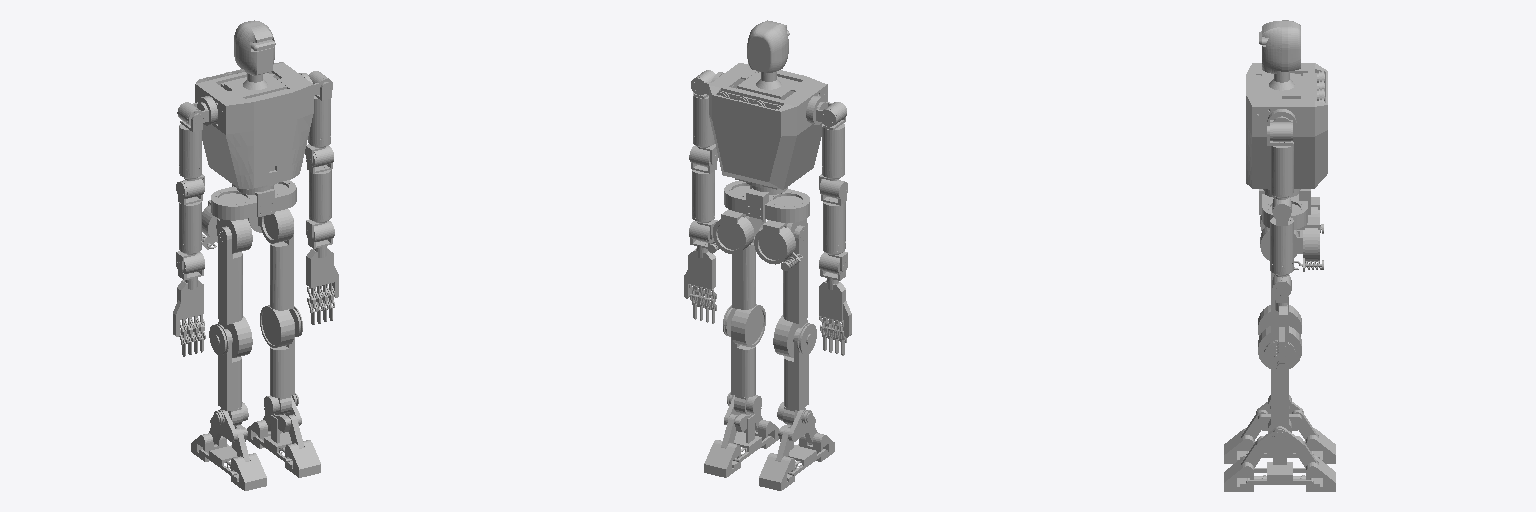
The robot description file, URDF, robot "jqr":
<?xml version="1.0" encoding="utf-8"?>
<!--
  ============================================================================
  jqr 双机械臂人形上半身机器人 URDF 描述
  ============================================================================
  原始模型：SolidWorks 装配体 jqr.SLDASM，通过 SW2URDF Exporter v1.6.0 导出
  ROS2 适配：手动迁移，修正关节限位、添加运动链注释

  运动链结构：
    base_link (大腿/固定基座)
      └── joint_1 [Z旋转, 腰部] ──▶ link_1 (上躯干)
           ├── joint_l_2 [X] ──▶ Link_l_2 (左肩1)
           │    └── joint_l_3 [Y] ──▶ Link_l_3 (左肩2)
           │         └── joint_l_4 [Z] ──▶ Link_l_4 (左肩3)
           │              └── joint_l_5 [X] ──▶ Link_l_5 (左肘1)
           │                   └── joint_l_6 [Z] ──▶ Link_l_6 (左腕1)
           │                        └── joint_l_7 [X] ──▶ Link_l_7 (左手末端)
           └── joint_r_2 [X] ──▶ Link_r_2 (右肩1)
                └── joint_r_3 [Y] ──▶ Link_r_3 (右肩2)
                     └── joint_r_4 [Z] ──▶ Link_r_4 (右肩3)
                          └── joint_r_5 [X] ──▶ Link_r_5 (右肘1)
                               └── joint_r_6 [Z] ──▶ Link_r_6 (右腕1)
                                    └── joint_r_7 [X] ──▶ Link_r_7 (右手末端)

  关节限位：全部 ±π rad (±180°)，力矩 100 N·m，速度 1.0 rad/s

  适用任务：交通指挥手势（停止/直行/左转/右转/减速/靠边停车/变道/待转）

  原 SW 组件对应：
    leg^jqr-1     → base_link  (大腿)
    qugan^jqr-1   → link_1     (躯干)
    l_jian_*      → 左肩关节
    l_zhou_*      → 左肘关节
    zuoshou-1     → 左手
    r_jian_*      → 右肩关节
    r_zhou_*      → 右肘关节
    youshou-1     → 右手
  ============================================================================
-->
<robot
  name="jqr">
  <!-- ============================================================ -->
  <!-- base_link: 大腿 / 固定基座 (对应 SW 组件: leg^jqr-1)          -->
  <!-- 质量: 25.73 kg                                                -->
  <!-- ============================================================ -->
  <link
    name="base_link">
    <inertial>
      <origin
        xyz="-7.28257887112893E-06 0.00313712189482795 -0.510442515287971"
        rpy="0 0 0" />
      <mass
        value="25.7309030479168" />
      <inertia
        ixx="0.131564424573315"
        ixy="9.22312184388478E-06"
        ixz="-1.92259655939609E-07"
        iyy="0.12863710328844"
        iyz="0.000576826622898757"
        izz="0.0431477760395514" />
    </inertial>
    <visual>
      <origin
        xyz="0 0 0"
        rpy="0 0 0" />
      <geometry>
        <mesh
          filename="package://jqr_description/meshes/base_link.STL" />
      </geometry>
      <material
        name="">
        <color
          rgba="0.752941176470588 0.752941176470588 0.752941176470588 1" />
      </material>
    </visual>
    <collision>
      <origin
        xyz="0 0 0"
        rpy="0 0 0" />
      <geometry>
        <mesh
          filename="package://jqr_description/meshes/base_link.STL" />
      </geometry>
    </collision>
  </link>

  <!-- ============================================================ -->
  <!-- link_1: 上躯干 (对应 SW 组件: qugan^jqr-1)                    -->
  <!-- 质量: 18.06 kg                                                -->
  <!-- ============================================================ -->
  <link
    name="link_1">
    <inertial>
      <origin
        xyz="-3.66716048354199E-07 0.01733512366571 0.204933038476789"
        rpy="0 0 0" />
      <mass
        value="18.0550443856409" />
      <inertia
        ixx="0.0703445252773168"
        ixy="5.67686395963026E-07"
        ixz="-1.04936822351132E-06"
        iyy="0.126050912527544"
        iyz="4.33234114295336E-05"
        izz="0.101749713011065" />
    </inertial>
    <visual>
      <origin
        xyz="0 0 0"
        rpy="0 0 0" />
      <geometry>
        <mesh
          filename="package://jqr_description/meshes/link_1.STL" />
      </geometry>
      <material
        name="">
        <color
          rgba="0.752941176470588 0.752941176470588 0.752941176470588 1" />
      </material>
    </visual>
    <collision>
      <origin
        xyz="0 0 0"
        rpy="0 0 0" />
      <geometry>
        <mesh
          filename="package://jqr_description/meshes/link_1.STL" />
      </geometry>
    </collision>
  </link>

  <!-- joint_1: 腰部旋转关节 (大腿 → 上躯干，绕 Z 轴) -->
  <joint
    name="joint_1"
    type="revolute">
    <origin
      xyz="0 0 0"
      rpy="0 0 0" />
    <parent
      link="base_link" />
    <child
      link="link_1" />
    <axis
      xyz="0 0 -1" />
    <limit
      lower="-3.14159"
      upper="3.14159"
      effort="100"
      velocity="1.0" />
  </joint>

  <!-- ============================================================ -->
  <!-- 左臂 Link_l_2: 左肩1 (对应 SW 组件: l_jian_1^jqr-1)         -->
  <!-- ============================================================ -->
  <link
    name="Link_l_2">
    <inertial>
      <origin
        xyz="0.0192116330700638 0.00210607415629638 1.72593120864595E-07"
        rpy="0 0 0" />
      <mass
        value="0.326987226634881" />
      <inertia
        ixx="0.000337004873840184"
        ixy="-2.5379498108827E-05"
        ixz="-7.47610000146244E-08"
        iyy="0.000304711615462641"
        iyz="1.92480172582897E-09"
        izz="0.000391511792737935" />
    </inertial>
    <visual>
      <origin
        xyz="0 0 0"
        rpy="0 0 0" />
      <geometry>
        <mesh
          filename="package://jqr_description/meshes/Link_l_2.STL" />
      </geometry>
      <material
        name="">
        <color
          rgba="0.752941176470588 0.752941176470588 0.752941176470588 1" />
      </material>
    </visual>
    <collision>
      <origin
        xyz="0 0 0"
        rpy="0 0 0" />
      <geometry>
        <mesh
          filename="package://jqr_description/meshes/Link_l_2.STL" />
      </geometry>
    </collision>
  </link>

  <!-- joint_l_2: 左肩滚动 (上躯干 → 左肩1，绕 X 轴) -->
  <joint
    name="joint_l_2"
    type="revolute">
    <origin
      xyz="0.18 0 0.2957"
      rpy="0 0 0" />
    <parent
      link="link_1" />
    <child
      link="Link_l_2" />
    <axis
      xyz="-1 0 0" />
    <limit
      lower="-3.14159"
      upper="3.14159"
      effort="100"
      velocity="1.0" />
  </joint>

  <!-- Link_l_3: 左肩2 (对应 SW 组件: l_jian_2^jqr-1) -->
  <link
    name="Link_l_3">
    <inertial>
      <origin
        xyz="5.79342129825022E-13 0.0188909489631652 -0.0114828840417226"
        rpy="0 0 0" />
      <mass
        value="0.298520124158937" />
      <inertia
        ixx="0.000193885158977959"
        ixy="-1.99513392221959E-15"
        ixz="1.16639876114517E-15"
        iyy="0.000128830758080107"
        iyz="3.80320921264696E-05"
        izz="0.000162377820693639" />
    </inertial>
    <visual>
      <origin
        xyz="0 0 0"
        rpy="0 0 0" />
      <geometry>
        <mesh
          filename="package://jqr_description/meshes/Link_l_3.STL" />
      </geometry>
      <material
        name="">
        <color
          rgba="0.752941176470588 0.752941176470588 0.752941176470588 1" />
      </material>
    </visual>
    <collision>
      <origin
        xyz="0 0 0"
        rpy="0 0 0" />
      <geometry>
        <mesh
          filename="package://jqr_description/meshes/Link_l_3.STL" />
      </geometry>
    </collision>
  </link>

  <!-- joint_l_3: 左肩俯仰 (左肩1 → 左肩2，绕 Y 轴) -->
  <joint
    name="joint_l_3"
    type="revolute">
    <origin
      xyz="0.053909 -0.028 0"
      rpy="0 0 0" />
    <parent
      link="Link_l_2" />
    <child
      link="Link_l_3" />
    <axis
      xyz="0 1 0" />
    <limit
      lower="-3.14159"
      upper="3.14159"
      effort="100"
      velocity="1.0" />
  </joint>

  <!-- Link_l_4: 左肩3 (对应 SW 组件: l_jian_3^jqr-1) -->
  <link
    name="Link_l_4">
    <inertial>
      <origin
        xyz="-0.00346032389871015 1.65136695429169E-08 -0.108516866875203"
        rpy="0 0 0" />
      <mass
        value="0.671082140232489" />
      <inertia
        ixx="0.00084543734485534"
        ixy="3.13098312956249E-10"
        ixz="-1.49774637729417E-05"
        iyy="0.000856715139405768"
        iyz="1.29726209040003E-10"
        izz="0.000474774451848715" />
    </inertial>
    <visual>
      <origin
        xyz="0 0 0"
        rpy="0 0 0" />
      <geometry>
        <mesh
          filename="package://jqr_description/meshes/Link_l_4.STL" />
      </geometry>
      <material
        name="">
        <color
          rgba="0.752941176470588 0.752941176470588 0.752941176470588 1" />
      </material>
    </visual>
    <collision>
      <origin
        xyz="0 0 0"
        rpy="0 0 0" />
      <geometry>
        <mesh
          filename="package://jqr_description/meshes/Link_l_4.STL" />
      </geometry>
    </collision>
  </link>

  <!-- joint_l_4: 左肩偏航 (左肩2 → 左肩3，绕 Z 轴) -->
  <joint
    name="joint_l_4"
    type="revolute">
    <origin
      xyz="0 0.0285 -0.038"
      rpy="0 0 0" />
    <parent
      link="Link_l_3" />
    <child
      link="Link_l_4" />
    <axis
      xyz="0 0 -1" />
    <limit
      lower="-3.14159"
      upper="3.14159"
      effort="100"
      velocity="1.0" />
  </joint>

  <!-- Link_l_5: 左肘1 (对应 SW 组件: l_zhou_1^jqr-2) -->
  <link
    name="Link_l_5">
    <inertial>
      <origin
        xyz="0.0298252395509881 2.69584074619189E-07 -0.0111377145766401"
        rpy="0 0 0" />
      <mass
        value="0.326042834726433" />
      <inertia
        ixx="0.000196478803920671"
        ixy="3.15590879514583E-09"
        ixz="-1.5664356935537E-05"
        iyy="0.000291950260895777"
        iyz="-9.50914655149448E-08"
        izz="0.00022447445297539" />
    </inertial>
    <visual>
      <origin
        xyz="0 0 0"
        rpy="0 0 0" />
      <geometry>
        <mesh
          filename="package://jqr_description/meshes/Link_l_5.STL" />
      </geometry>
      <material
        name="">
        <color
          rgba="0.752941176470588 0.752941176470588 0.752941176470588 1" />
      </material>
    </visual>
    <collision>
      <origin
        xyz="0 0 0"
        rpy="0 0 0" />
      <geometry>
        <mesh
          filename="package://jqr_description/meshes/Link_l_5.STL" />
      </geometry>
    </collision>
  </link>

  <!-- joint_l_5: 左肘滚动 (左肩3 → 左肘1，绕 X 轴) -->
  <joint
    name="joint_l_5"
    type="revolute">
    <origin
      xyz="-0.026 0 -0.217"
      rpy="0 0 0" />
    <parent
      link="Link_l_4" />
    <child
      link="Link_l_5" />
    <axis
      xyz="-1 0 0" />
    <limit
      lower="-3.14159"
      upper="3.14159"
      effort="100"
      velocity="1.0" />
  </joint>

  <!-- Link_l_6: 左腕1 (对应 SW 组件: l_zhou_2^jqr-1) -->
  <link
    name="Link_l_6">
    <inertial>
      <origin
        xyz="1.70324152282131E-08 -2.26173746398217E-09 -0.086106964412177"
        rpy="0 0 0" />
      <mass
        value="0.578023782698956" />
      <inertia
        ixx="0.000800669559113827"
        ixy="-1.53348176821043E-10"
        ixz="1.22640139468745E-10"
        iyy="0.000800670815790048"
        iyz="-1.74146203074858E-11"
        izz="0.000441194903910431" />
    </inertial>
    <visual>
      <origin
        xyz="0 0 0"
        rpy="0 0 0" />
      <geometry>
        <mesh
          filename="package://jqr_description/meshes/Link_l_6.STL" />
      </geometry>
      <material
        name="">
        <color
          rgba="0.752941176470588 0.752941176470588 0.752941176470588 1" />
      </material>
    </visual>
    <collision>
      <origin
        xyz="0 0 0"
        rpy="0 0 0" />
      <geometry>
        <mesh
          filename="package://jqr_description/meshes/Link_l_6.STL" />
      </geometry>
    </collision>
  </link>

  <!-- joint_l_6: 左腕偏航 (左肘1 → 左腕1，绕 Z 轴) -->
  <joint
    name="joint_l_6"
    type="revolute">
    <origin
      xyz="0.028 0 -0.051909"
      rpy="0 0 0" />
    <parent
      link="Link_l_5" />
    <child
      link="Link_l_6" />
    <axis
      xyz="0 0 -1" />
    <limit
      lower="-3.14159"
      upper="3.14159"
      effort="100"
      velocity="1.0" />
  </joint>

  <!-- Link_l_7: 左手末端 (对应 SW 组件: zuoshou-1) -->
  <link
    name="Link_l_7">
    <inertial>
      <origin
        xyz="0.0338197212259842 -0.00038985244370715 -0.0594631753688534"
        rpy="0 0 0" />
      <mass
        value="0.692165788318104" />
      <inertia
        ixx="0.000718868972184597"
        ixy="6.07415436106744E-07"
        ixz="7.05799369015941E-05"
        iyy="0.000980193989059306"
        iyz="-4.30720905831231E-06"
        izz="0.000451178675645269" />
    </inertial>
    <visual>
      <origin
        xyz="0 0 0"
        rpy="0 0 0" />
      <geometry>
        <mesh
          filename="package://jqr_description/meshes/Link_l_7.STL" />
      </geometry>
      <material
        name="">
        <color
          rgba="0.752941176470588 0.752941176470588 0.752941176470588 1" />
      </material>
    </visual>
    <collision>
      <origin
        xyz="0 0 0"
        rpy="0 0 0" />
      <geometry>
        <mesh
          filename="package://jqr_description/meshes/Link_l_7.STL" />
      </geometry>
    </collision>
  </link>

  <!-- joint_l_7: 左手滚动 (左腕1 → 左手，绕 X 轴) -->
  <joint
    name="joint_l_7"
    type="revolute">
    <origin
      xyz="-0.031909 0 -0.2123"
      rpy="0 0 0" />
    <parent
      link="Link_l_6" />
    <child
      link="Link_l_7" />
    <axis
      xyz="-1 0 0" />
    <limit
      lower="-3.14159"
      upper="3.14159"
      effort="100"
      velocity="1.0" />
  </joint>

  <!-- ============================================================ -->
  <!-- 右臂 (对称于左臂)                                             -->
  <!-- ============================================================ -->

  <!-- Link_r_2: 右肩1 (对应 SW 组件: r_jian_1^jqr-1) -->
  <link
    name="Link_r_2">
    <inertial>
      <origin
        xyz="-0.0192116330699349 0.00210607415747477 -1.7259312089235E-07"
        rpy="0 0 0" />
      <mass
        value="0.326987226634883" />
      <inertia
        ixx="0.000337004873843299"
        ixy="2.53794981068483E-05"
        ixz="-7.47610000147311E-08"
        iyy="0.00030471161545953"
        iyz="-1.92480172115904E-09"
        izz="0.000391511792737939" />
    </inertial>
    <visual>
      <origin
        xyz="0 0 0"
        rpy="0 0 0" />
      <geometry>
        <mesh
          filename="package://jqr_description/meshes/Link_r_2.STL" />
      </geometry>
      <material
        name="">
        <color
          rgba="0.752941176470588 0.752941176470588 0.752941176470588 1" />
      </material>
    </visual>
    <collision>
      <origin
        xyz="0 0 0"
        rpy="0 0 0" />
      <geometry>
        <mesh
          filename="package://jqr_description/meshes/Link_r_2.STL" />
      </geometry>
    </collision>
  </link>

  <!-- joint_r_2: 右肩滚动 (上躯干 → 右肩1，绕 X 轴) -->
  <joint
    name="joint_r_2"
    type="revolute">
    <origin
      xyz="-0.18 0 0.2957"
      rpy="0 0 0" />
    <parent
      link="link_1" />
    <child
      link="Link_r_2" />
    <axis
      xyz="-1 0 0" />
    <limit
      lower="-3.14159"
      upper="3.14159"
      effort="100"
      velocity="1.0" />
  </joint>

  <!-- Link_r_3: 右肩2 (对应 SW 组件: r_jian_2^jqr-1) -->
  <link
    name="Link_r_3">
    <inertial>
      <origin
        xyz="5.79369885400638E-13 0.0188909489631648 -0.0114828840417226"
        rpy="0 0 0" />
      <mass
        value="0.298520124158937" />
      <inertia
        ixx="0.000193885158977959"
        ixy="-1.99514681727917E-15"
        ixz="1.16642669819463E-15"
        iyy="0.000128830758080107"
        iyz="3.80320921264696E-05"
        izz="0.000162377820693639" />
    </inertial>
    <visual>
      <origin
        xyz="0 0 0"
        rpy="0 0 0" />
      <geometry>
        <mesh
          filename="package://jqr_description/meshes/Link_r_3.STL" />
      </geometry>
      <material
        name="">
        <color
          rgba="0.752941176470588 0.752941176470588 0.752941176470588 1" />
      </material>
    </visual>
    <collision>
      <origin
        xyz="0 0 0"
        rpy="0 0 0" />
      <geometry>
        <mesh
          filename="package://jqr_description/meshes/Link_r_3.STL" />
      </geometry>
    </collision>
  </link>

  <!-- joint_r_3: 右肩俯仰 (右肩1 → 右肩2，绕 Y 轴) -->
  <joint
    name="joint_r_3"
    type="revolute">
    <origin
      xyz="-0.053909 -0.028 0"
      rpy="0 0 0" />
    <parent
      link="Link_r_2" />
    <child
      link="Link_r_3" />
    <axis
      xyz="0 1 0" />
    <limit
      lower="-3.14159"
      upper="3.14159"
      effort="100"
      velocity="1.0" />
  </joint>

  <!-- Link_r_4: 右肩3 (对应 SW 组件: r_jian_3^jqr-1) -->
  <link
    name="Link_r_4">
    <inertial>
      <origin
        xyz="0.00346031416444098 1.3527819975323E-08 -0.100516866875203"
        rpy="0 0 0" />
      <mass
        value="0.671082140232494" />
      <inertia
        ixx="0.000845436699954325"
        ixy="6.39308700574732E-10"
        ixz="1.49773890905778E-05"
        iyy="0.000856715784306792"
        iyz="1.06819155489816E-10"
        izz="0.000474774451848718" />
    </inertial>
    <visual>
      <origin
        xyz="0 0 0"
        rpy="0 0 0" />
      <geometry>
        <mesh
          filename="package://jqr_description/meshes/Link_r_4.STL" />
      </geometry>
      <material
        name="">
        <color
          rgba="0.752941176470588 0.752941176470588 0.752941176470588 1" />
      </material>
    </visual>
    <collision>
      <origin
        xyz="0 0 0"
        rpy="0 0 0" />
      <geometry>
        <mesh
          filename="package://jqr_description/meshes/Link_r_4.STL" />
      </geometry>
    </collision>
  </link>

  <!-- joint_r_4: 右肩偏航 (右肩2 → 右肩3，绕 Z 轴) -->
  <joint
    name="joint_r_4"
    type="revolute">
    <origin
      xyz="0 0.0285 -0.046"
      rpy="0 0 0" />
    <parent
      link="Link_r_3" />
    <child
      link="Link_r_4" />
    <axis
      xyz="0 0 -1" />
    <limit
      lower="-3.14159"
      upper="3.14159"
      effort="100"
      velocity="1.0" />
  </joint>

  <!-- Link_r_5: 右肘1 (对应 SW 组件: r_zhou_1^jqr-1) -->
  <link
    name="Link_r_5">
    <inertial>
      <origin
        xyz="-0.0298252395509881 -2.69584075063278E-07 -0.0111377145766401"
        rpy="0 0 0" />
      <mass
        value="0.326042834726433" />
      <inertia
        ixx="0.000196478803920672"
        ixy="3.15590879529204E-09"
        ixz="1.56643569355369E-05"
        iyy="0.000291950260895778"
        iyz="9.50914655145928E-08"
        izz="0.00022447445297539" />
    </inertial>
    <visual>
      <origin
        xyz="0 0 0"
        rpy="0 0 0" />
      <geometry>
        <mesh
          filename="package://jqr_description/meshes/Link_r_5.STL" />
      </geometry>
      <material
        name="">
        <color
          rgba="0.752941176470588 0.752941176470588 0.752941176470588 1" />
      </material>
    </visual>
    <collision>
      <origin
        xyz="0 0 0"
        rpy="0 0 0" />
      <geometry>
        <mesh
          filename="package://jqr_description/meshes/Link_r_5.STL" />
      </geometry>
    </collision>
  </link>

  <!-- joint_r_5: 右肘滚动 (右肩3 → 右肘1，绕 X 轴) -->
  <joint
    name="joint_r_5"
    type="revolute">
    <origin
      xyz="0.026 0 -0.209"
      rpy="0 0 0" />
    <parent
      link="Link_r_4" />
    <child
      link="Link_r_5" />
    <axis
      xyz="-1 0 0" />
    <limit
      lower="-3.14159"
      upper="3.14159"
      effort="100"
      velocity="1.0" />
  </joint>

  <!-- Link_r_6: 右腕1 (对应 SW 组件: r_zhou_2^jqr-1) -->
  <link
    name="Link_r_6">
    <inertial>
      <origin
        xyz="-0.00346033855104882 -4.15228185168814E-09 -0.100516866875208"
        rpy="0 0 0" />
      <mass
        value="0.671082140232455" />
      <inertia
        ixx="0.000845436494795859"
        ixy="-5.87544273379016E-10"
        ixz="-1.49775842588617E-05"
        iyy="0.000856715989464899"
        iyz="-3.56674661630948E-11"
        izz="0.000474774451848694" />
    </inertial>
    <visual>
      <origin
        xyz="0 0 0"
        rpy="0 0 0" />
      <geometry>
        <mesh
          filename="package://jqr_description/meshes/Link_r_6.STL" />
      </geometry>
      <material
        name="">
        <color
          rgba="0.752941176470588 0.752941176470588 0.752941176470588 1" />
      </material>
    </visual>
    <collision>
      <origin
        xyz="0 0 0"
        rpy="0 0 0" />
      <geometry>
        <mesh
          filename="package://jqr_description/meshes/Link_r_6.STL" />
      </geometry>
    </collision>
  </link>

  <!-- joint_r_6: 右腕偏航 (右肘1 → 右腕1，绕 Z 轴) -->
  <joint
    name="joint_r_6"
    type="revolute">
    <origin
      xyz="-0.028 0 -0.051909"
      rpy="0 0 0" />
    <parent
      link="Link_r_5" />
    <child
      link="Link_r_6" />
    <axis
      xyz="0 0 -1" />
    <limit
      lower="-3.14159"
      upper="3.14159"
      effort="100"
      velocity="1.0" />
  </joint>

  <!-- Link_r_7: 右手末端 (对应 SW 组件: youshou-1) -->
  <link
    name="Link_r_7">
    <inertial>
      <origin
        xyz="0.0340045478253294 -0.000425257715062743 -0.0755426177857008"
        rpy="0 0 0" />
      <mass
        value="0.599500129866304" />
      <inertia
        ixx="0.000674103605294355"
        ixy="-6.01103608688652E-07"
        ixz="-0.000116886113480585"
        iyy="0.00092416178179264"
        iyz="-4.30629254755026E-06"
        izz="0.000417613226815065" />
    </inertial>
    <visual>
      <origin
        xyz="0 0 0"
        rpy="0 0 0" />
      <geometry>
        <mesh
          filename="package://jqr_description/meshes/Link_r_7.STL" />
      </geometry>
      <material
        name="">
        <color
          rgba="0.752941176470588 0.752941176470588 0.752941176470588 1" />
      </material>
    </visual>
    <collision>
      <origin
        xyz="0 0 0"
        rpy="0 0 0" />
      <geometry>
        <mesh
          filename="package://jqr_description/meshes/Link_r_7.STL" />
      </geometry>
    </collision>
  </link>

  <!-- joint_r_7: 右手滚动 (右腕1 → 右手，绕 X 轴) -->
  <joint
    name="joint_r_7"
    type="revolute">
    <origin
      xyz="-0.03225 0 -0.209"
      rpy="0 0 0" />
    <parent
      link="Link_r_6" />
    <child
      link="Link_r_7" />
    <axis
      xyz="-1 0 0" />
    <limit
      lower="-3.14159"
      upper="3.14159"
      effort="100"
      velocity="1.0" />
  </joint>


</robot>

--- Render facts (derived) ---
Views: 3 orthographic renders of the robot side by side, from view 1: azimuth 30°, elevation 25°; view 2: azimuth 150°, elevation 25°; view 3: azimuth 270°, elevation 25°.
Robot: jqr — 14 links, 13 joints (13 revolute); root link base_link; default pose: every joint at zero.
Visible links, largest first — view 1: base_link, link_1, Link_l_7, Link_r_7, Link_r_6, Link_r_4, Link_l_6, Link_l_4, Link_r_5; view 2: base_link, link_1, Link_r_7, Link_l_7, Link_r_6, Link_r_4, Link_l_6, Link_l_4, Link_r_2, Link_r_5; view 3: base_link, link_1, Link_l_6, Link_l_4, Link_l_7.
Boxes of the visible links, x1,y1,x2,y2 form: base_link: (191, 180, 320, 490); link_1: (195, 20, 313, 191); Link_l_7: (306, 219, 338, 324); Link_r_7: (173, 252, 205, 356); Link_r_6: (176, 201, 201, 271); Link_r_4: (179, 124, 204, 185); Link_l_6: (309, 170, 331, 222); Link_l_4: (305, 96, 330, 164); Link_r_5: (176, 179, 204, 204); base_link: (704, 181, 834, 490); link_1: (709, 20, 827, 191); Link_r_7: (819, 252, 851, 355); Link_l_7: (684, 220, 717, 323); Link_r_6: (823, 202, 847, 272); Link_r_4: (819, 123, 844, 187); Link_l_6: (692, 170, 714, 222); Link_l_4: (693, 92, 717, 164); Link_r_2: (809, 96, 846, 126); Link_r_5: (819, 179, 847, 205); base_link: (1224, 189, 1335, 491); link_1: (1246, 20, 1327, 193); Link_l_6: (1270, 217, 1293, 275); Link_l_4: (1270, 142, 1293, 199); Link_l_7: (1272, 274, 1291, 382).
Bounding box of the posed robot: 0.5941 × 0.34 × 1.51 m (x, y, z).
14 mesh visuals loaded from 14 distinct referenced files (14 binary STL).
